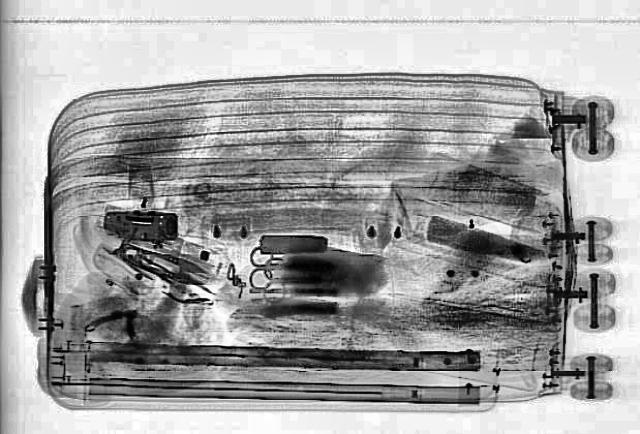Scissors: (260, 256, 328, 304), (247, 244, 303, 288)
